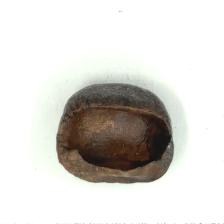NG: (59, 101, 172, 182)
